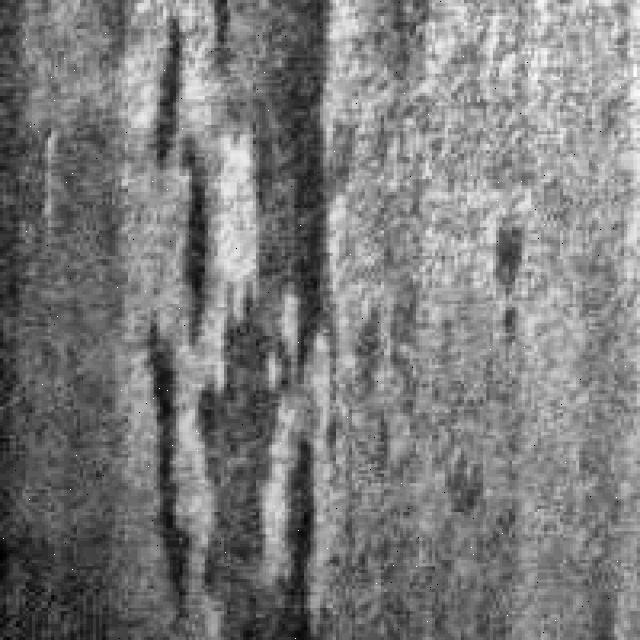Patches: (138, 0, 339, 627), (468, 211, 534, 349)
